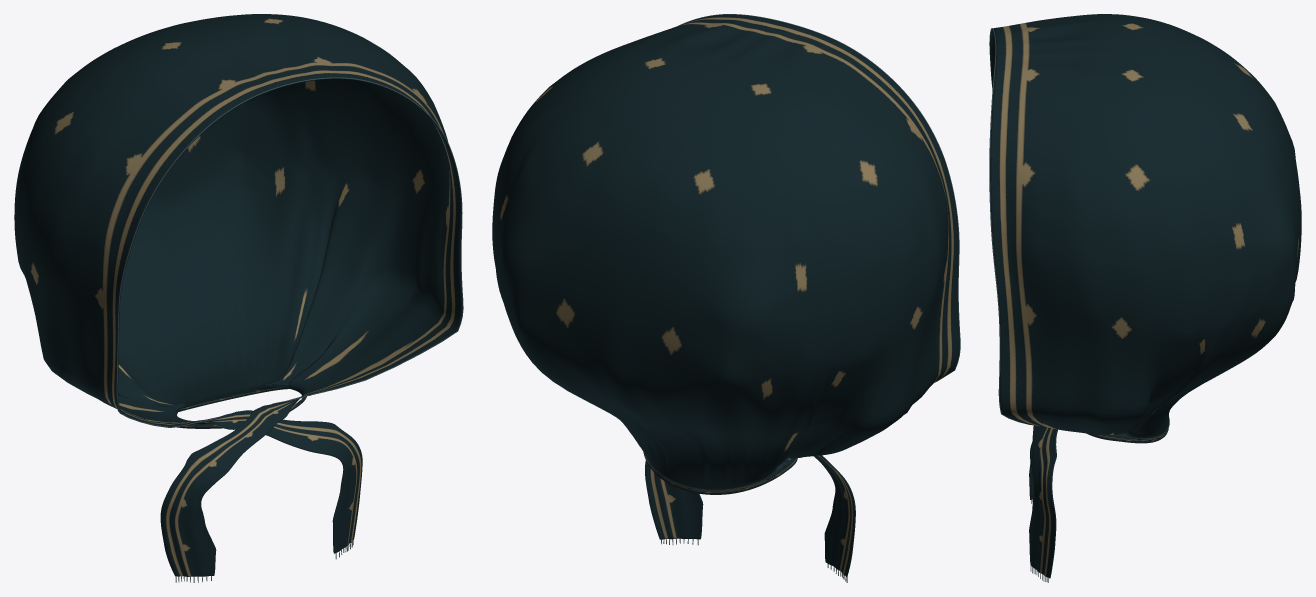
Rendered from Masculine-middle-part-sweatshirt-pashmina249-headgear.glb.
3 renders of one model, left to right at view 1: azimuth 30°, elevation 25°; view 2: azimuth 150°, elevation 25°; view 3: azimuth 270°, elevation 25°, orthographic. The views are drawn at different scales.
Parts seen in each view (by area): view 1: 226 headgear / Headwear / continuous woven pashmina239, 226 headgear / Headwear / face edge239; view 2: 226 headgear / Headwear / continuous woven pashmina239, 226 headgear / Headwear / face edge239; view 3: 226 headgear / Headwear / continuous woven pashmina239, 226 headgear / Headwear / face edge239.
Part boxes in pixels (x1,y1,x2,y2): 226 headgear / Headwear / continuous woven pashmina239: (14,14,462,576); 226 headgear / Headwear / face edge239: (116,77,463,427); 226 headgear / Headwear / continuous woven pashmina239: (492,14,959,576); 226 headgear / Headwear / face edge239: (678,14,960,382); 226 headgear / Headwear / continuous woven pashmina239: (990,14,1301,578); 226 headgear / Headwear / face edge239: (989,28,1032,425).
Size of the model in its own units: 1.12 by 1.39 by 0.7917.
Materials: 3 (1 with a texture image).
